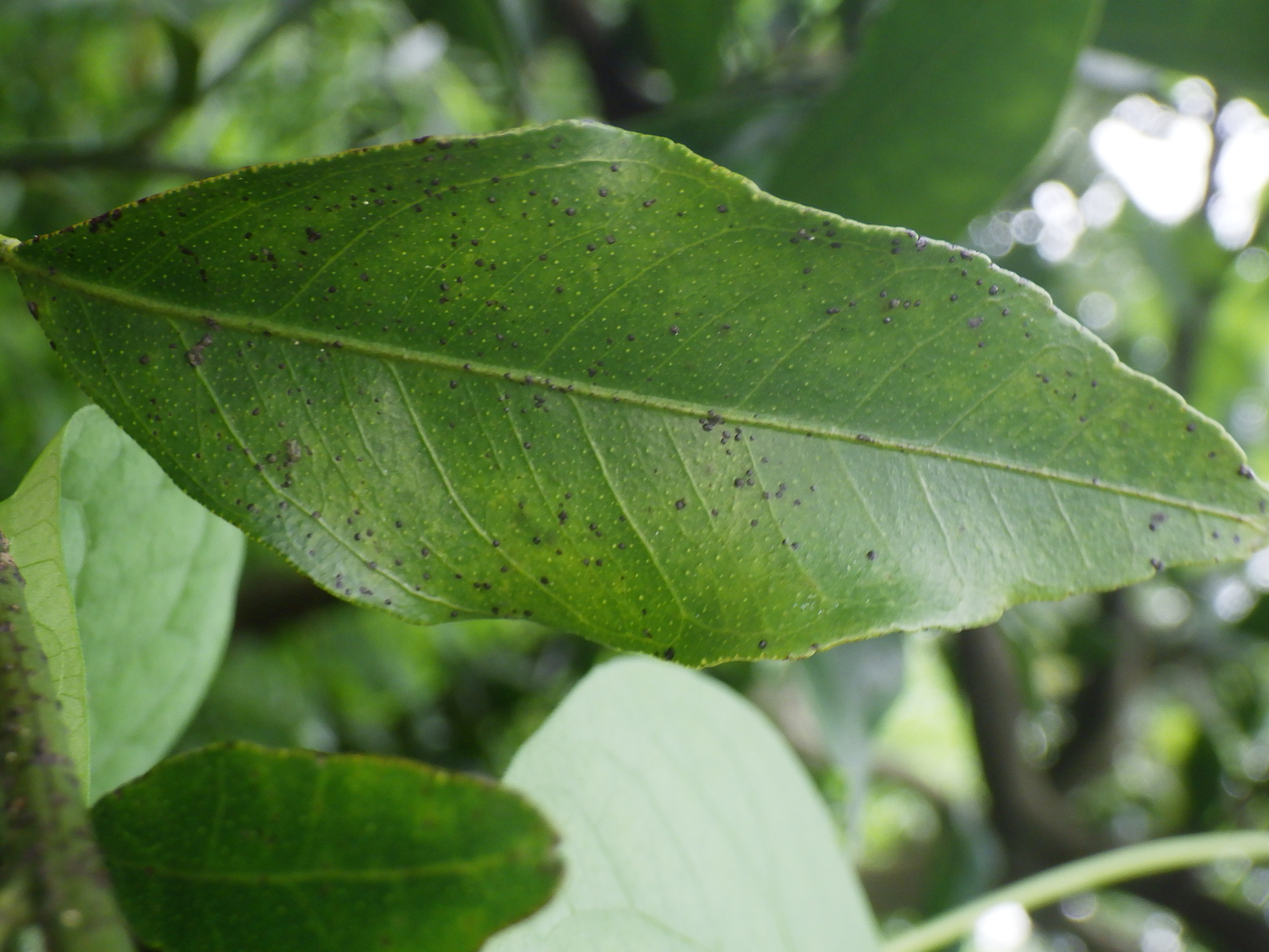Black_Spot: (0, 122, 1268, 666)
